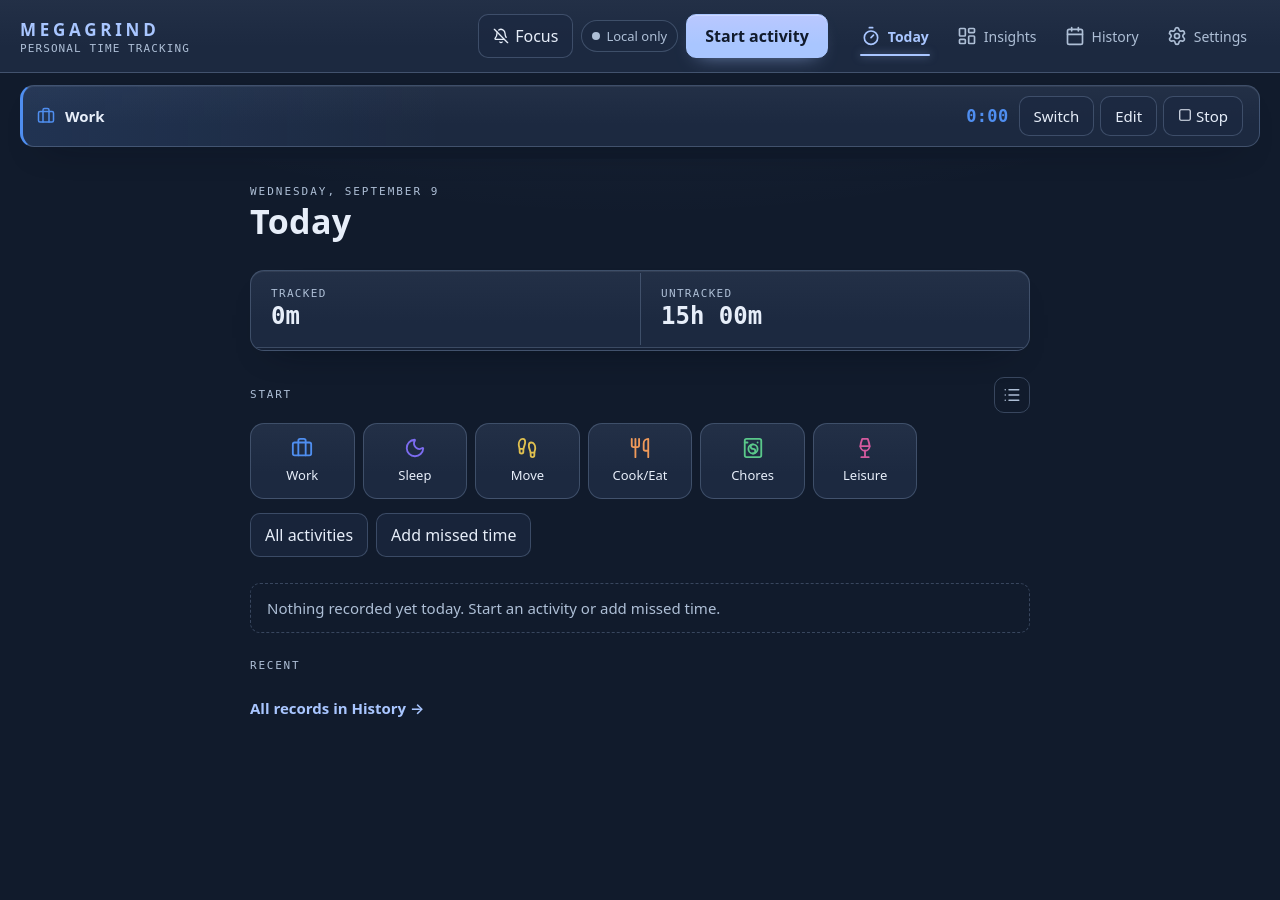
Test: App editor and picker state › reopening the activity picker starts from the list, not a stale selection
The image size is (1280, 900).
Click the button with test id "now-switch".
click(1056, 116)  # box [1018,96,1094,136]
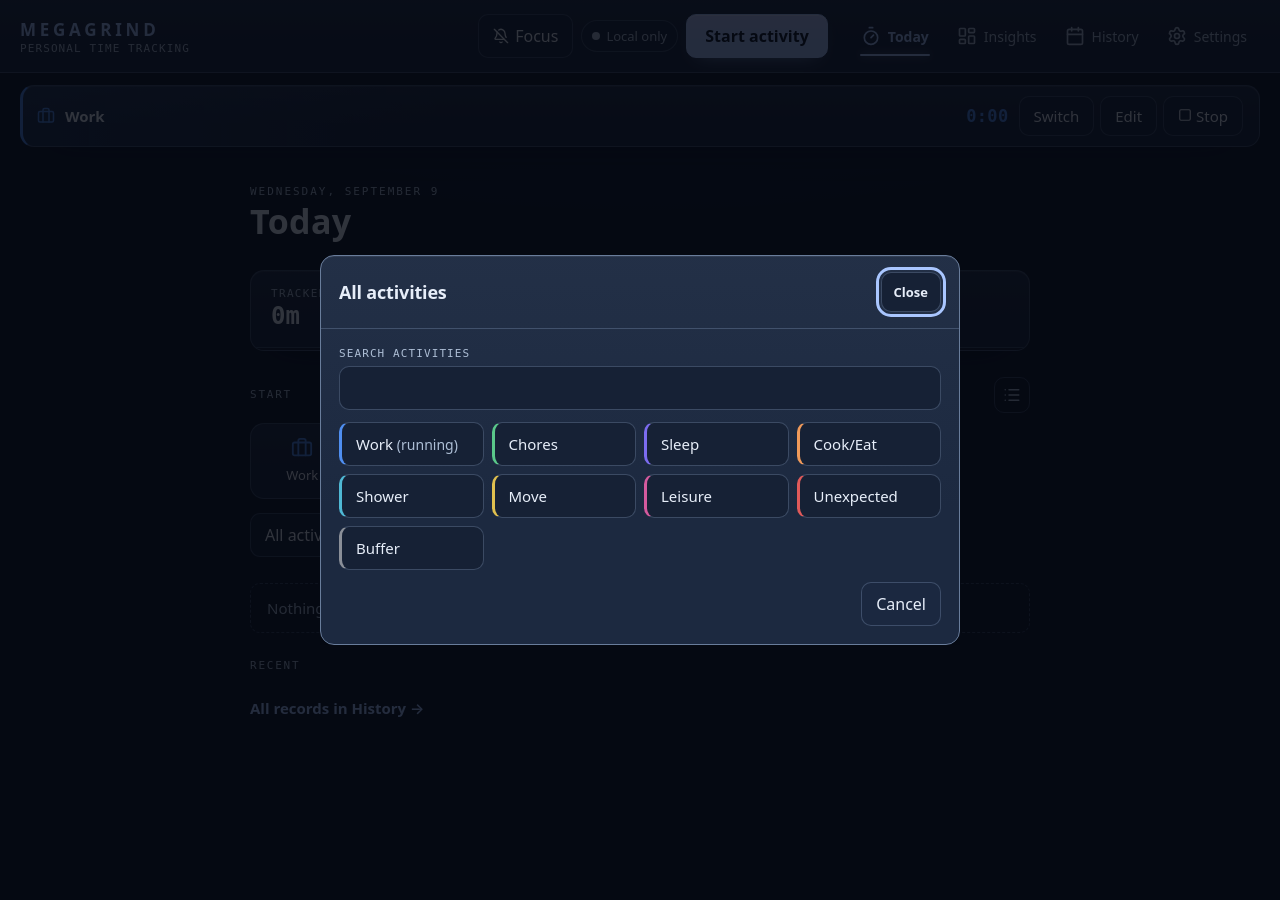
Click the button with test id "pick-activity" showing "Work (running)".
click(411, 444)  # box [339,422,484,466]
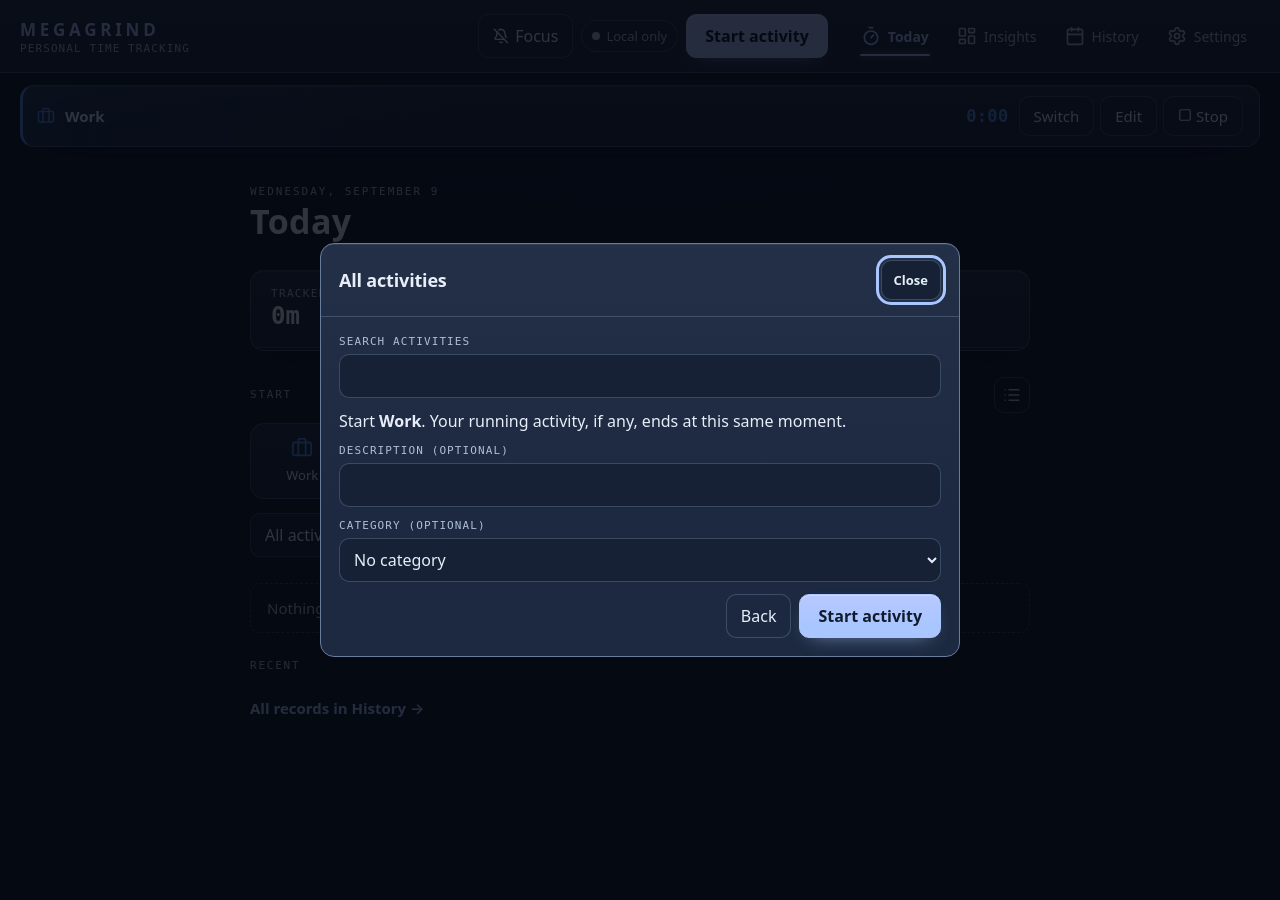
expect the button with test id "start-picked" is shown: met, box [800,594,941,638]
Click the button with class "app-dialog-close".
click(911, 280)  # box [881,260,941,300]
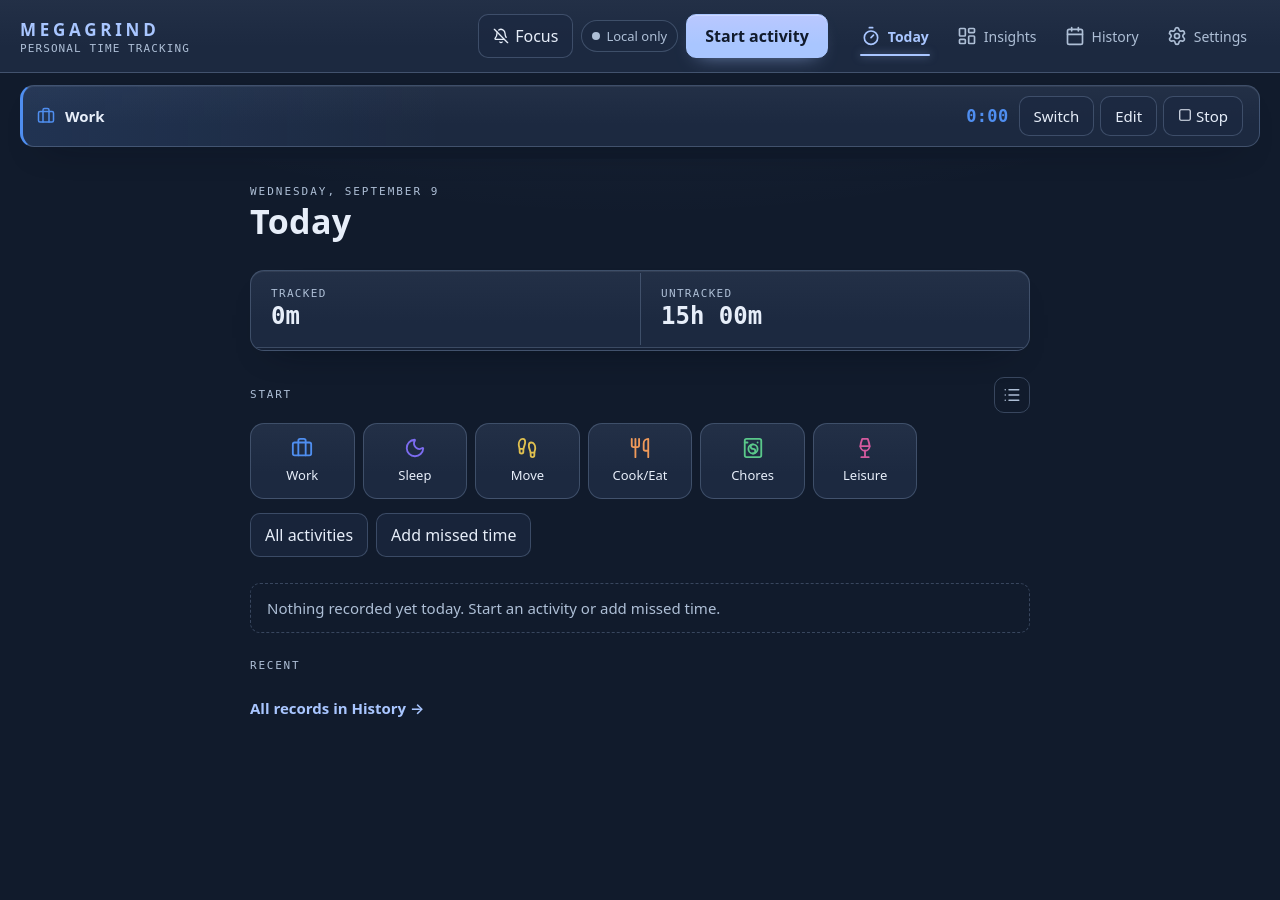
Click the button with test id "now-switch".
click(1056, 116)  # box [1018,96,1094,136]
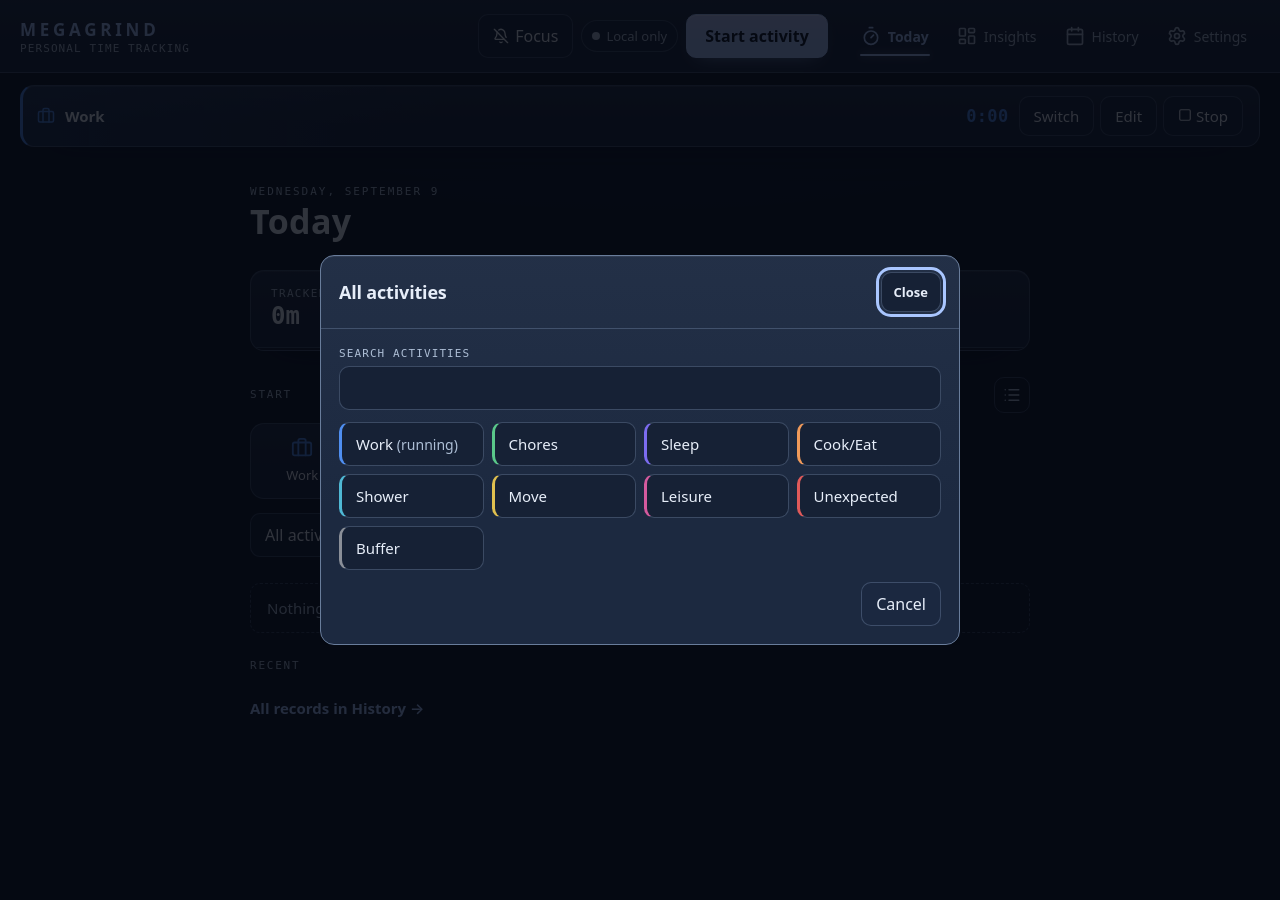
expect the button with test id "pick-activity" showing "Work (running)" is shown: met, box [339,422,484,466]
